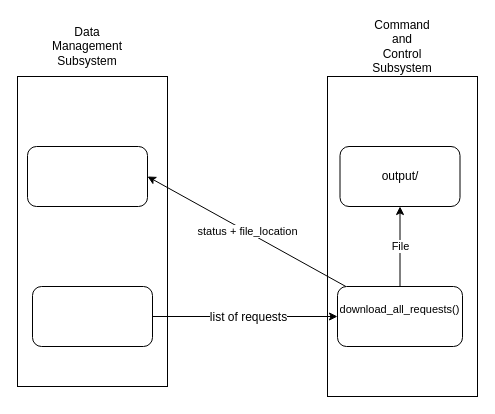
This 495x414 diagram has some shape labels left out. The shapes that lost their labels are listed below. From the top down, each one's box as (x1, y1, x2, y2) in pixels, then its label:
(26, 146, 148, 206): update_request(r)
(32, 286, 152, 346): get_all_requests()
